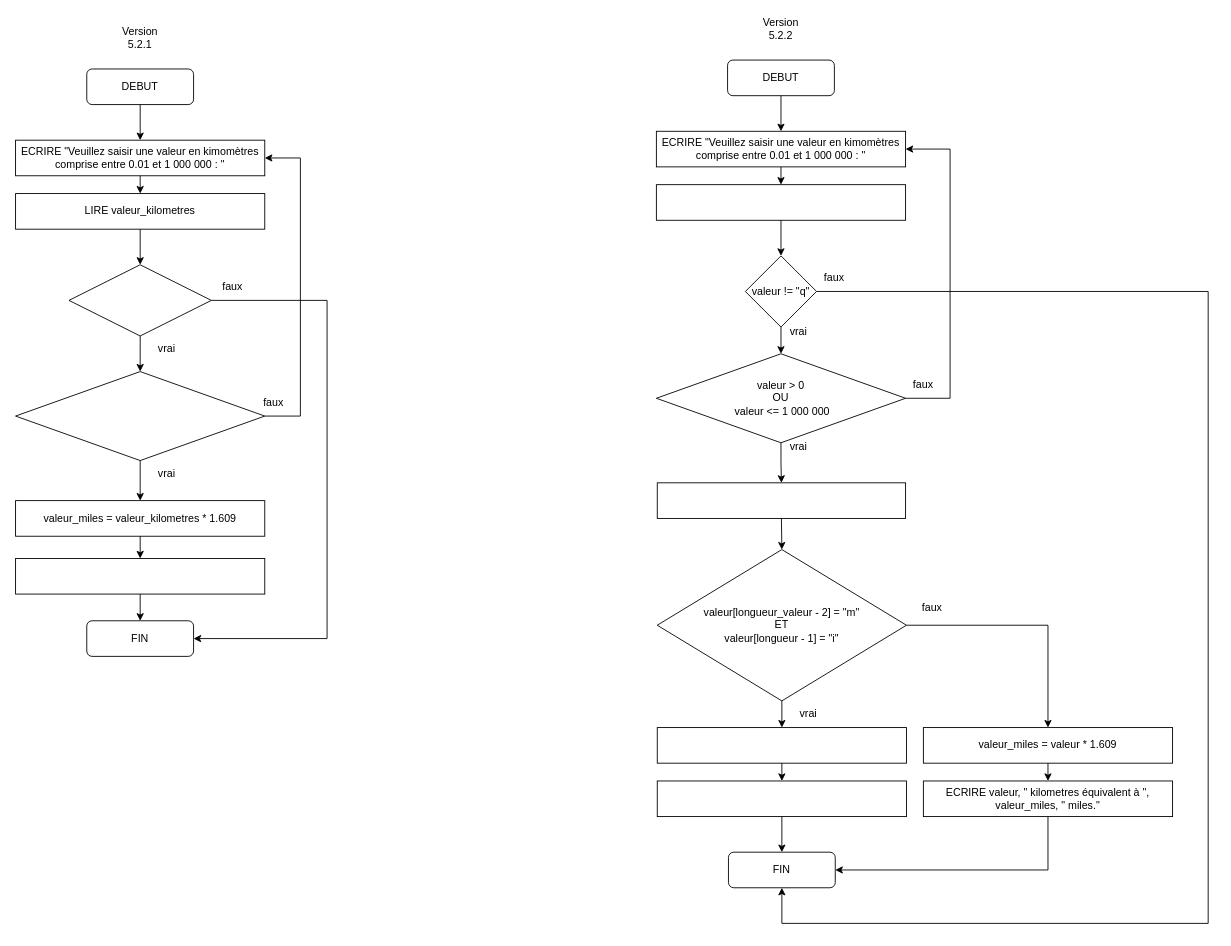
This 1231x946 diagram has some shape labels left out. Here are the shapes that lost their labels. From the top down, the centre of each, then its label:
the point at 780,202: LIRE valeur
the point at 139,300: valeur_kilometres != "q"
the point at 140,416: valeur_kilometres > 0 ET valeur_kiometres <= 1 000 000
the point at 781,500: longueur_valeur = |valeur|
the point at 140,576: ECRIRE valeur_kilometres, " kilometres équivalent à ", valeur_miles, " miles."
the point at 781,745: valeur_kilometres = valeur / 1.609
the point at 781,798: ECRIRE valeur, " miles équivalent à ", valeur_kilometres, " kilometres."
